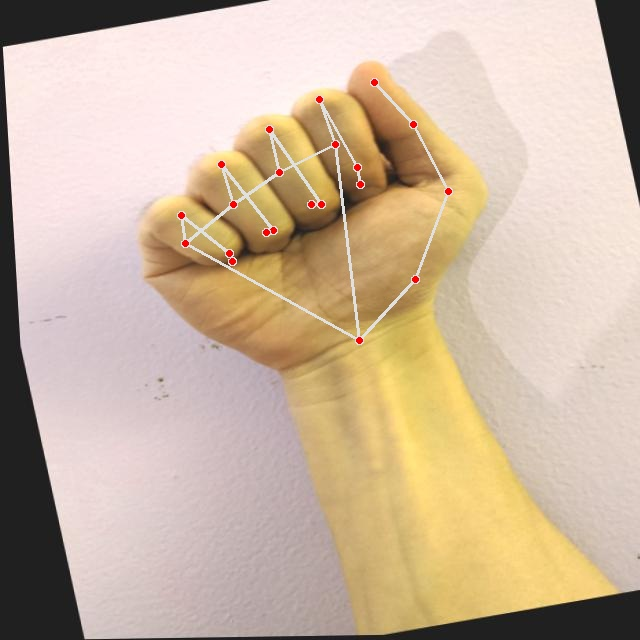A: (84, 34, 532, 406)
